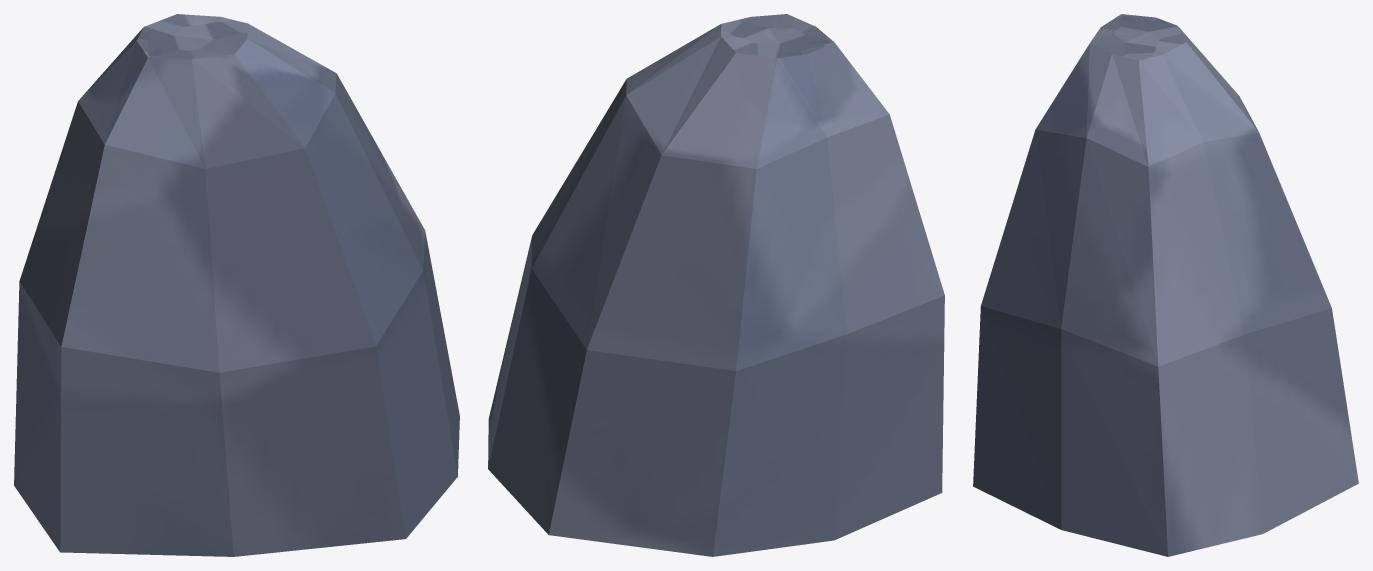
File: coastal_rock.glb
3 views of the same model, side by side, from view 1: azimuth 30°, elevation 25°; view 2: azimuth 150°, elevation 25°; view 3: azimuth 270°, elevation 25° (orthographic). The views are drawn at different scales.
Visible parts, largest first — view 1: beach_coastal_rock; view 2: beach_coastal_rock; view 3: beach_coastal_rock.
Boxes of the visible parts, bbox=[...] form: beach_coastal_rock: bbox=[14, 14, 459, 556]; beach_coastal_rock: bbox=[488, 14, 944, 556]; beach_coastal_rock: bbox=[973, 14, 1358, 556].
Size of the model in its own units: 1.2 by 1.2 by 1.05.
Materials: 1 (1 with a texture image).
